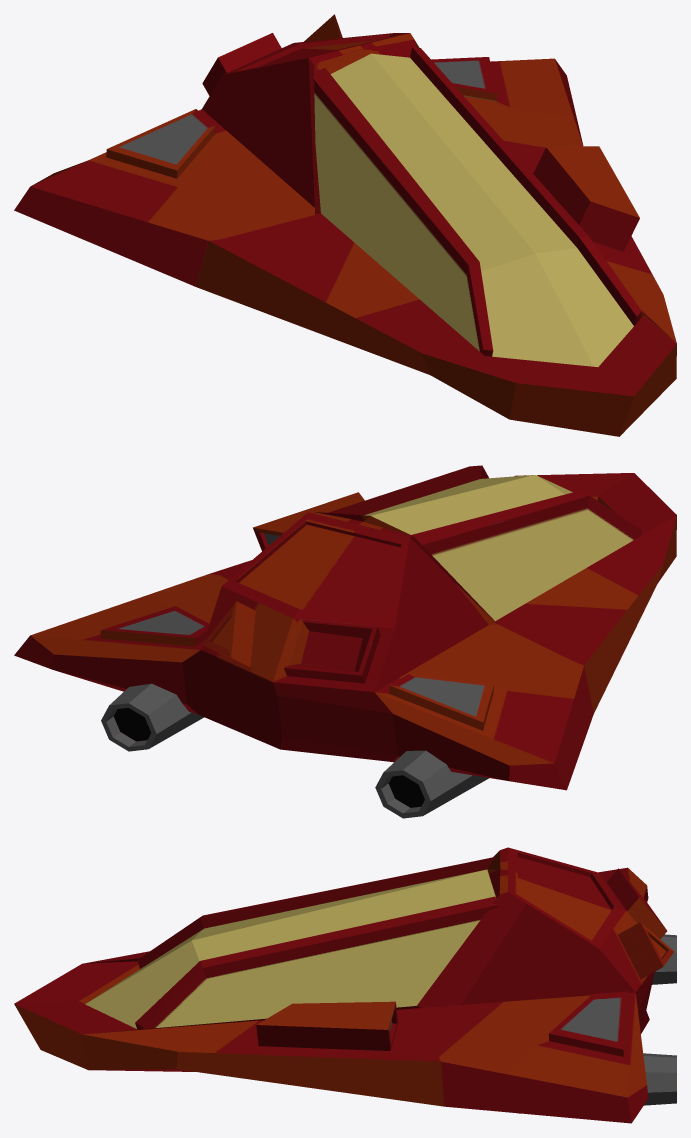
The model's file is spaceship.glb.
3 renders of one model, top to bottom at view 1: azimuth 30°, elevation 25°; view 2: azimuth 150°, elevation 25°; view 3: azimuth 270°, elevation 25°, orthographic. The views are drawn at different scales.
Visible parts, largest first — view 1: Cube.001; view 2: Cube.001; view 3: Cube.001.
Part boxes in pixels (x1,y1,x2,y2): Cube.001: (14,14,676,436); Cube.001: (14,465,676,818); Cube.001: (14,847,676,1123).
Bounding box in the file's own units: 5.72 × 2 × 6.61.
Materials: 1 (1 with a texture image).
